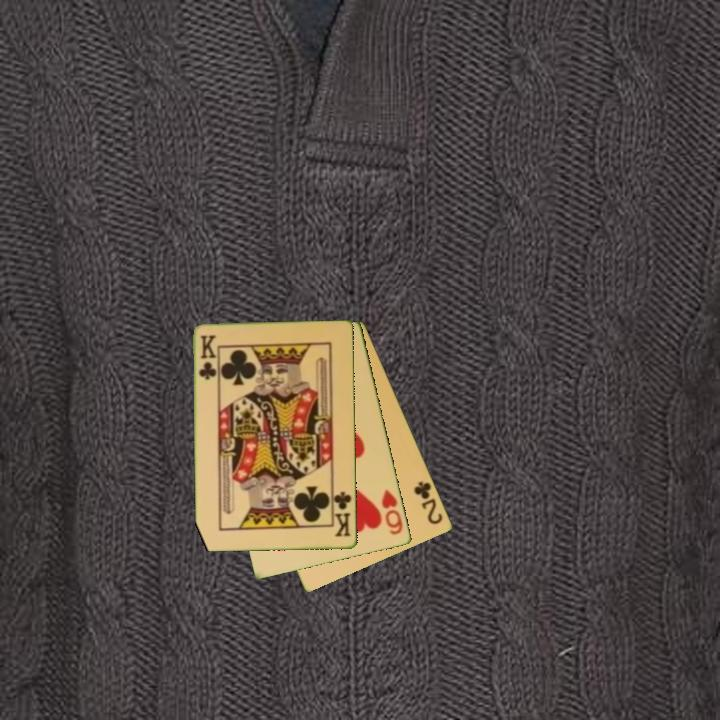2c: (411, 478, 446, 528)
6h: (378, 486, 406, 538)
Kc: (330, 487, 354, 540), (196, 332, 219, 383)
